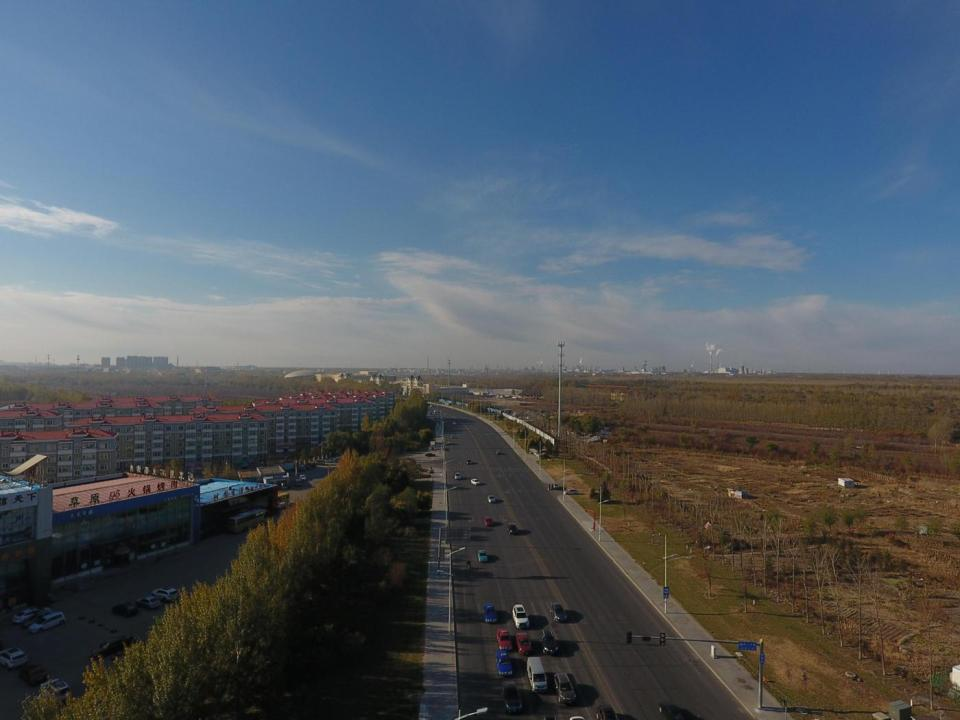bus: (226, 508, 270, 533), (271, 492, 289, 508), (299, 474, 306, 481), (295, 478, 301, 486)
car: (89, 634, 131, 660), (39, 678, 71, 704), (30, 611, 66, 634), (554, 672, 575, 704), (501, 680, 522, 712), (17, 664, 47, 686), (0, 647, 27, 669), (22, 610, 53, 629), (13, 607, 51, 622), (659, 701, 686, 720), (539, 629, 558, 655), (495, 650, 512, 676), (512, 604, 530, 628), (111, 602, 139, 617), (496, 627, 512, 652), (595, 703, 618, 720), (516, 632, 532, 655), (134, 596, 161, 609), (151, 587, 178, 600), (550, 602, 567, 622), (484, 604, 497, 623), (507, 522, 518, 535), (477, 549, 488, 562), (483, 516, 493, 526), (564, 488, 578, 495), (276, 502, 290, 509), (470, 478, 480, 485), (453, 472, 461, 480), (487, 495, 495, 503), (551, 483, 559, 490), (424, 452, 436, 456), (466, 459, 472, 465), (293, 468, 302, 472), (452, 421, 457, 425), (496, 450, 500, 454), (450, 434, 454, 438), (433, 409, 437, 412), (433, 412, 436, 414)
van: (527, 655, 547, 692), (315, 459, 326, 465), (303, 464, 311, 470), (307, 463, 316, 468), (324, 459, 334, 463), (298, 465, 304, 470)
